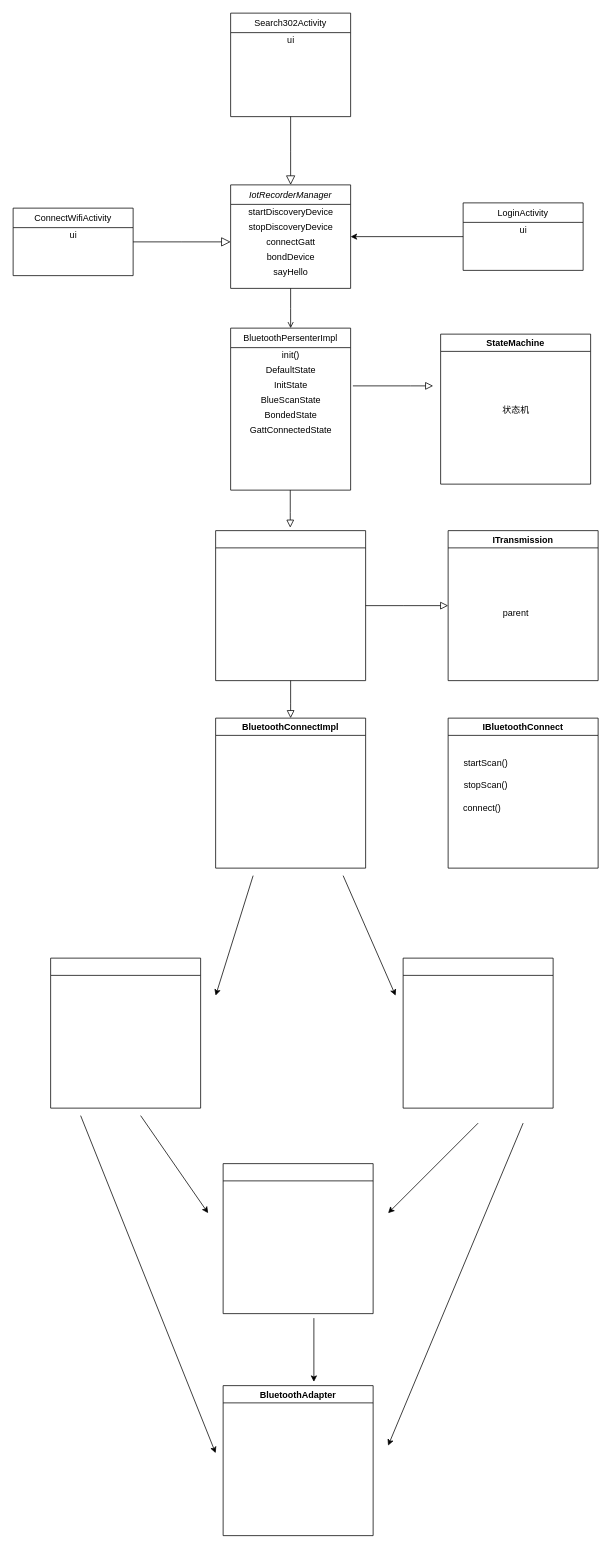
The diagram is 611 pixels wide and 1549 high, and some of its shapes have lost their labels. The shapes that lost their labels are listed below. From the top down, each one's centre as x and y in pixels, then its label:
point 290,605: TransmissionImpl
point 125,1032: BlueDiscoveryControl
point 477,1032: BlueBondControl
point 297,1238: BluetoothGattlayer
